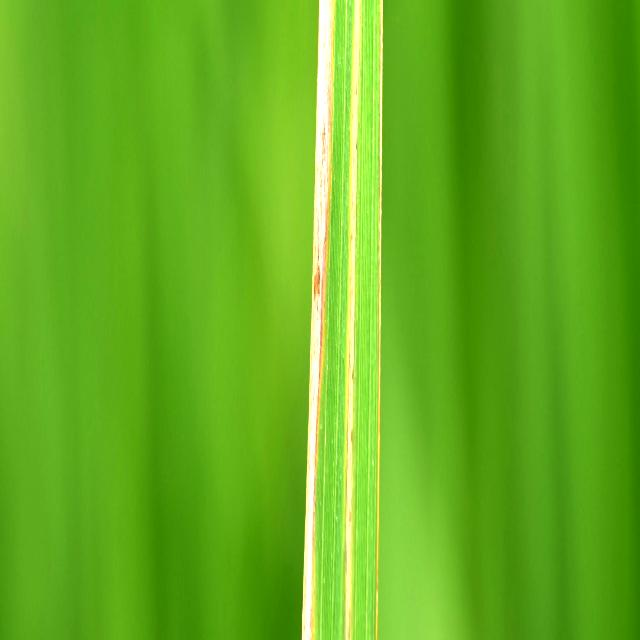BLB: (303, 0, 336, 636), (345, 0, 361, 633)
